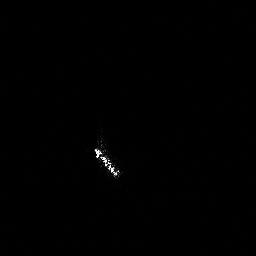ship: (91, 145, 122, 179)
